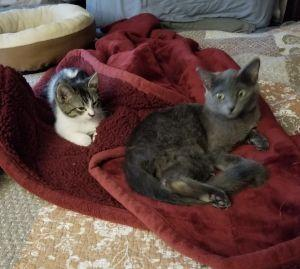rblue: (191, 54, 266, 128)
